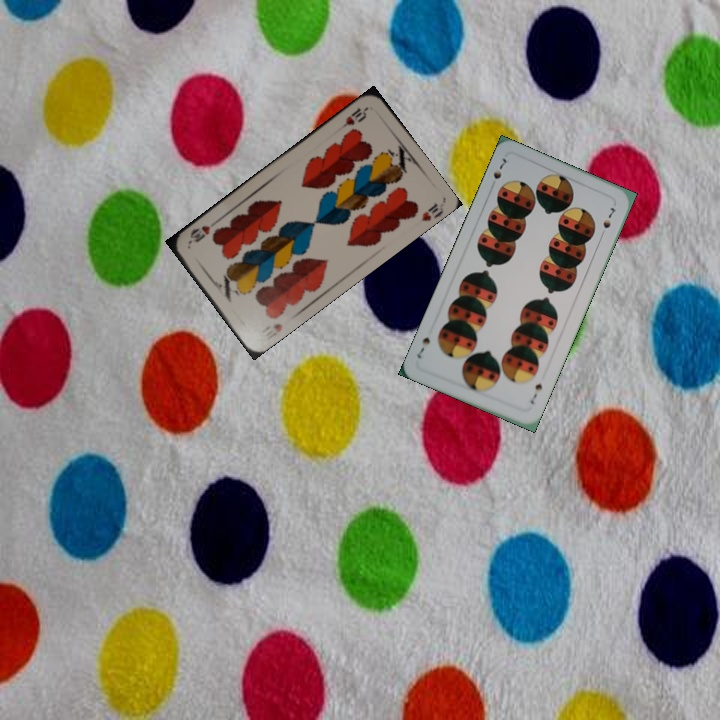H10: (335, 103, 370, 133), (258, 319, 285, 336)
S7: (486, 154, 509, 191), (526, 379, 545, 407)
